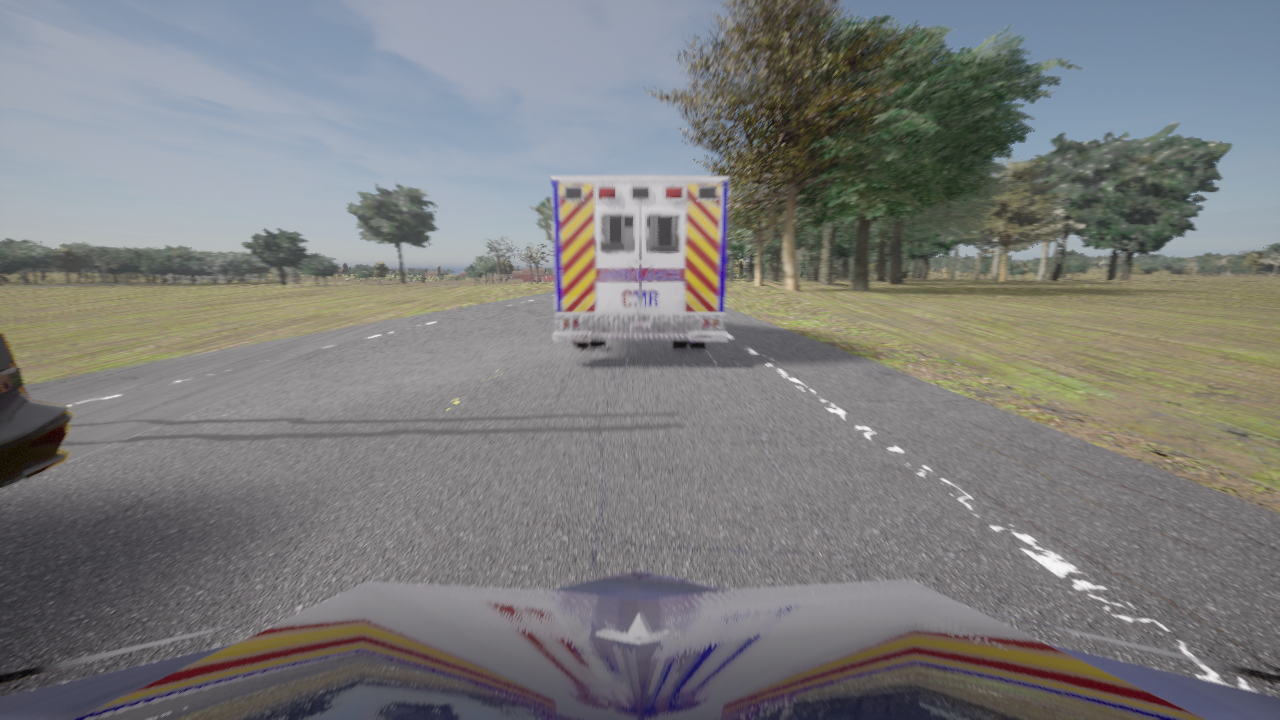cyclist: (0, 569, 1279, 719), (551, 176, 728, 348)
